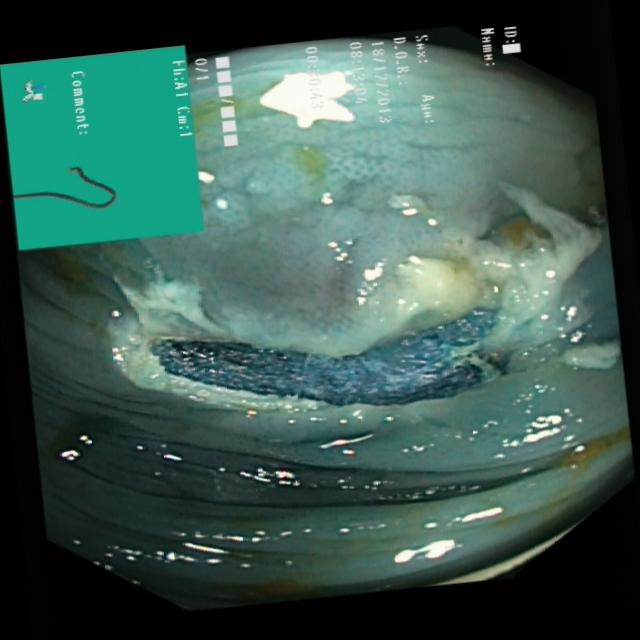dyed-resection-margins: (90, 199, 614, 450)
